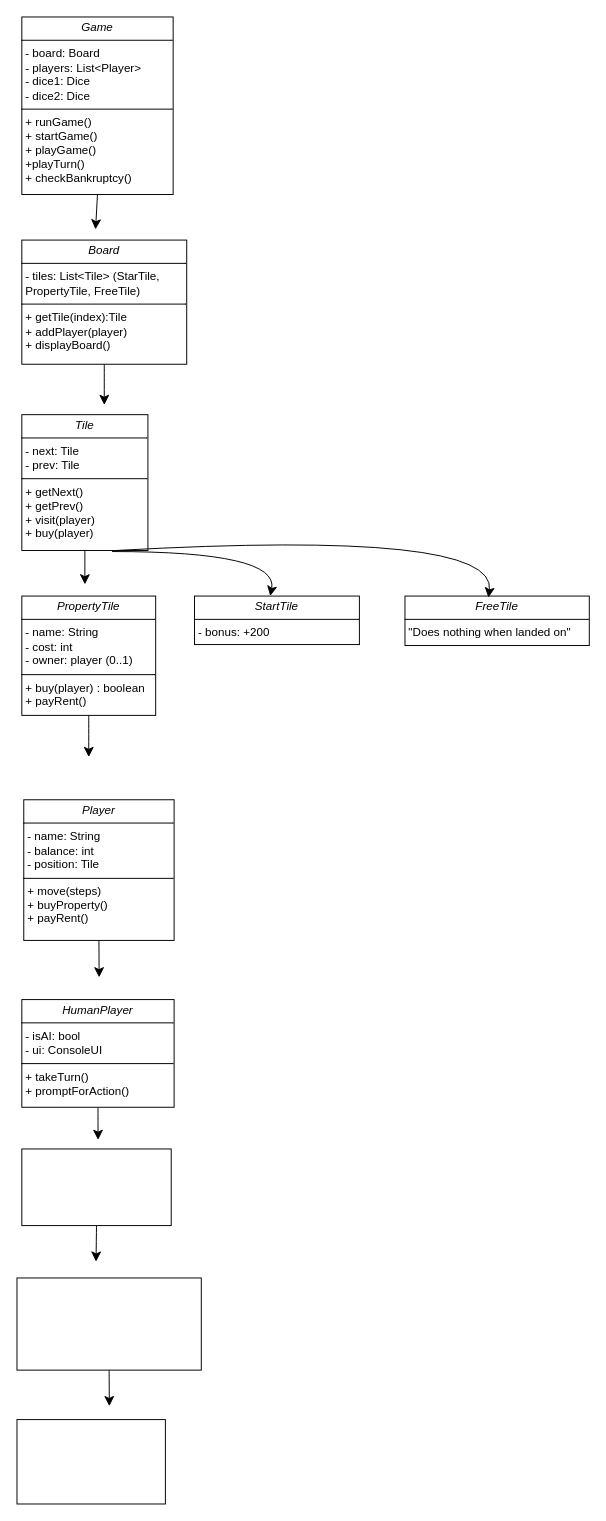
This 606x1521 diagram has some shape labels left out. The shapes that lost their labels are listed below. From the top down, each one's box as (x1, y1, x2, y2) in pixels, then its label:
(21, 1148, 171, 1226): ConsoleUI + displayBoard() + showMessage() + getUserInput()
(16, 1277, 201, 1370): AIPlayer - isAI: bool + makeMove() + buyProperty()
(16, 1419, 165, 1504): Dice - value: int + roll(): int
